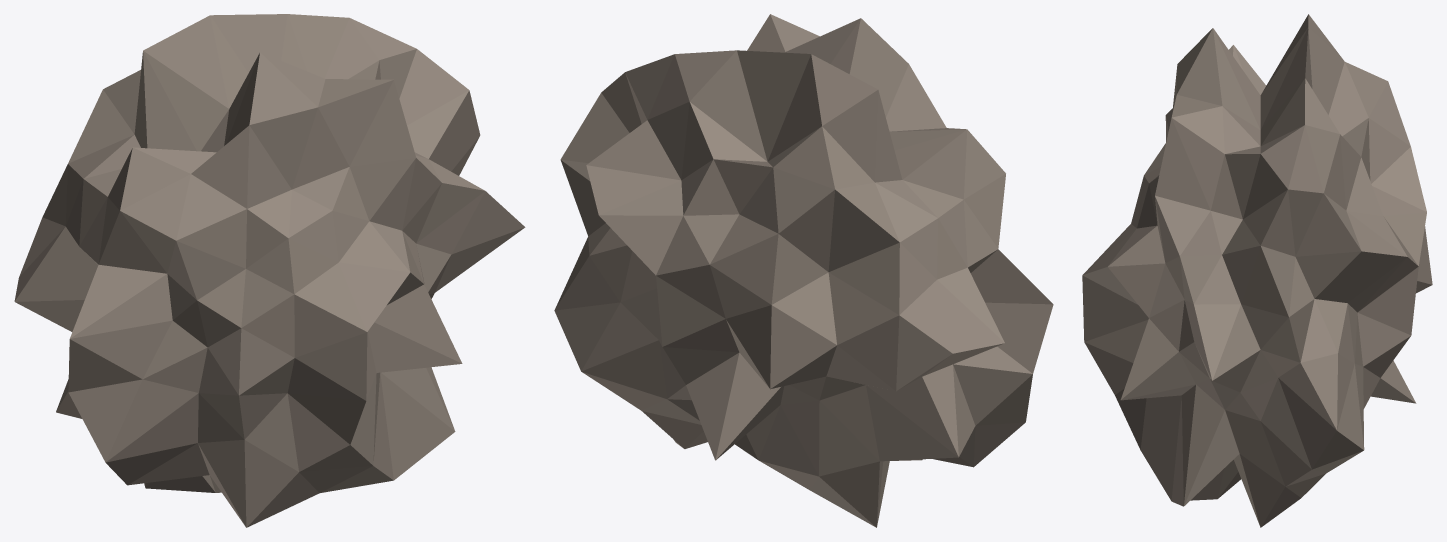
File: Rock2.glb
3 views of the same model, side by side, from view 1: azimuth 30°, elevation 25°; view 2: azimuth 150°, elevation 25°; view 3: azimuth 270°, elevation 25° (orthographic). The views are drawn at different scales.
Visible parts, largest first — view 1: world; view 2: world; view 3: world.
Boxes of the visible parts, left/top/right/bottom form: world: left=14, top=14, right=525, bottom=527; world: left=554, top=14, right=1053, bottom=527; world: left=1082, top=14, right=1432, bottom=527.
Bounding box in the file's own units: 8.05 × 7.65 × 5.55.
